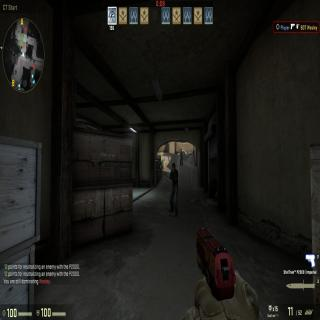T-Body: (168, 162, 178, 218), (179, 148, 183, 166)
T-Head: (171, 162, 176, 171), (180, 148, 182, 152)
